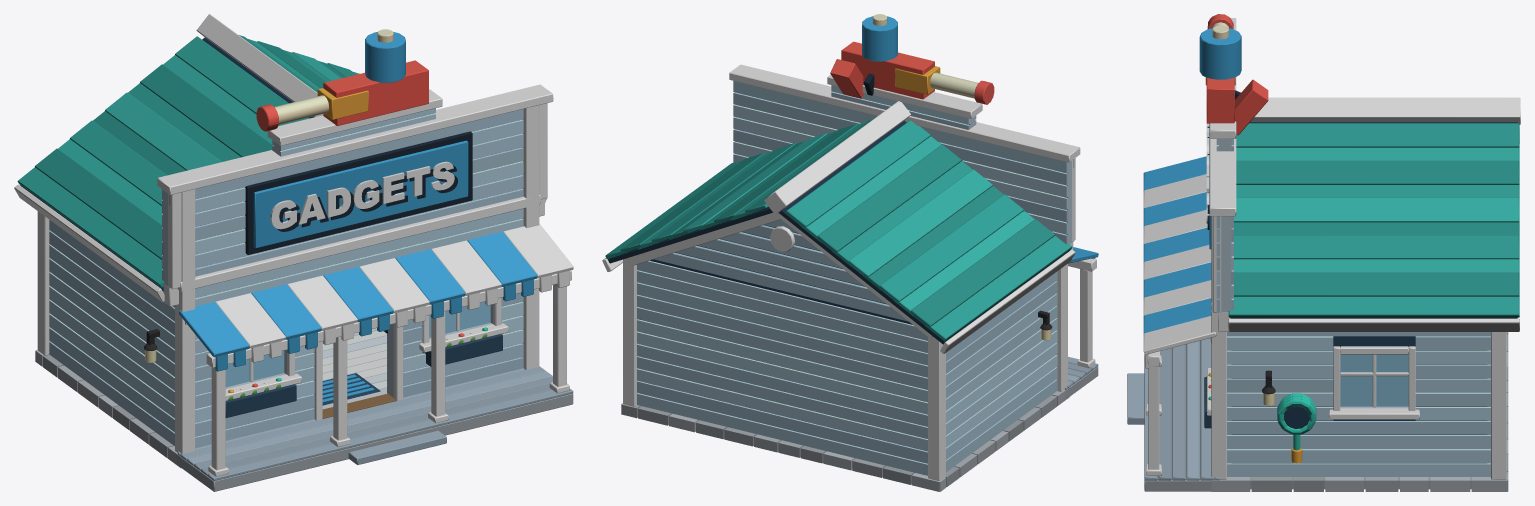
File: GadgetStore.glb
3 views of the same model, side by side, from view 1: azimuth 30°, elevation 25°; view 2: azimuth 150°, elevation 25°; view 3: azimuth 270°, elevation 25° (orthographic). The views are drawn at different scales.
Parts seen in each view (by area): view 1: GadgetStore_Detail, GadgetStore_Walls, GadgetStore_Roof, GadgetStore_Sign, GadgetStore_Glass, GadgetStore_Interior; view 2: GadgetStore_Walls, GadgetStore_Roof, GadgetStore_Detail; view 3: GadgetStore_Roof, GadgetStore_Detail, GadgetStore_Walls, GadgetStore_Glass.
Boxes of the visible parts, left/top/right/bottom form: GadgetStore_Detail: left=37, top=29, right=573, bottom=491; GadgetStore_Walls: left=35, top=108, right=523, bottom=468; GadgetStore_Roof: left=14, top=14, right=547, bottom=302; GadgetStore_Sign: left=270, top=161, right=457, bottom=231; GadgetStore_Glass: left=225, top=301, right=490, bottom=387; GadgetStore_Interior: left=322, top=330, right=387, bottom=405; GadgetStore_Walls: left=621, top=81, right=1074, bottom=491; GadgetStore_Roof: left=602, top=101, right=1075, bottom=353; GadgetStore_Detail: left=623, top=14, right=1098, bottom=480; GadgetStore_Roof: left=1228, top=97, right=1520, bottom=331; GadgetStore_Detail: left=1127, top=14, right=1506, bottom=491; GadgetStore_Walls: left=1211, top=139, right=1508, bottom=491; GadgetStore_Glass: left=1340, top=354, right=1408, bottom=406.
Size of the model in its own units: 30.03 by 27.56 by 25.3.
